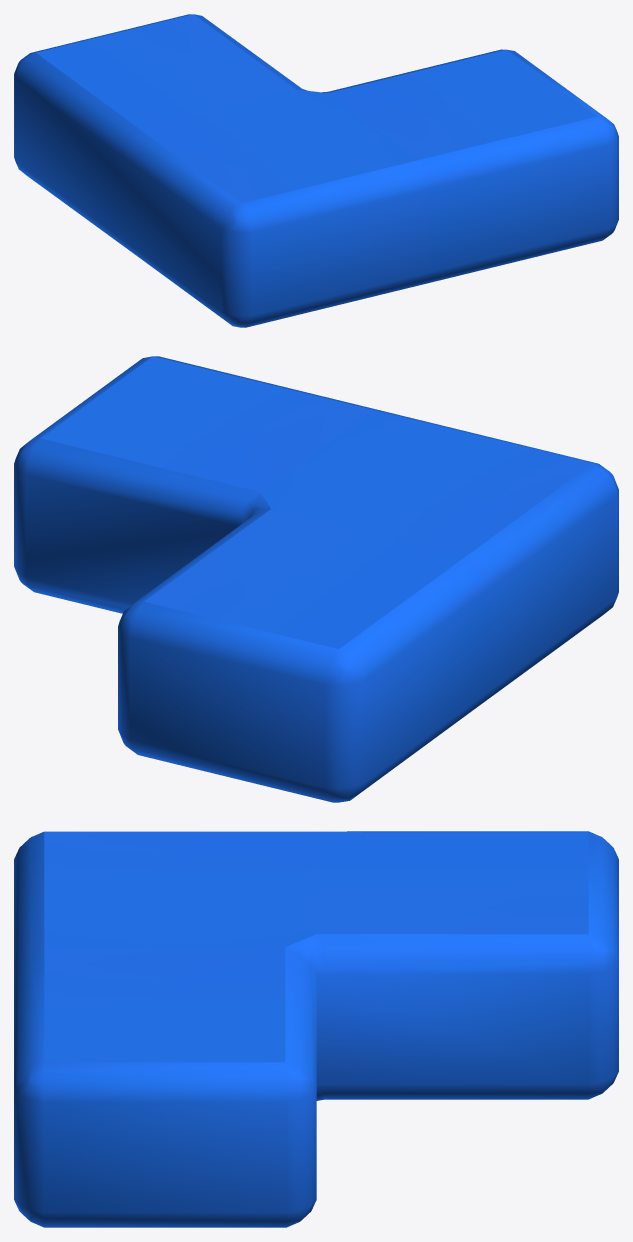
File: LBlockBlue.fbx
3 views of the same model, one above another, from view 1: azimuth 30°, elevation 25°; view 2: azimuth 150°, elevation 25°; view 3: azimuth 270°, elevation 25° (orthographic). The views are drawn at different scales.
Visible parts, largest first — view 1: LBlock; view 2: LBlock; view 3: LBlock.
Part boxes in pixels (box(x1,y1,x2,y2)): LBlock: box(14, 14, 618, 327); LBlock: box(14, 356, 618, 802); LBlock: box(14, 831, 618, 1227).
Bounding box in the file's own units: 4 × 1.2 × 4.
